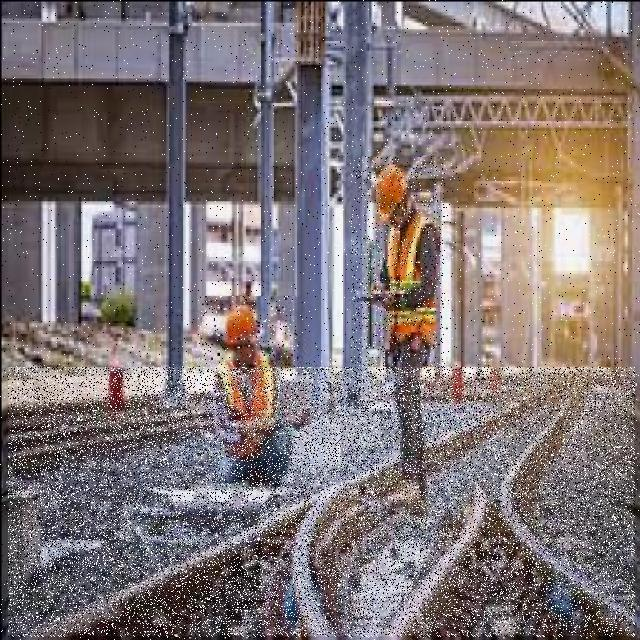rail: (11, 368, 635, 637)
